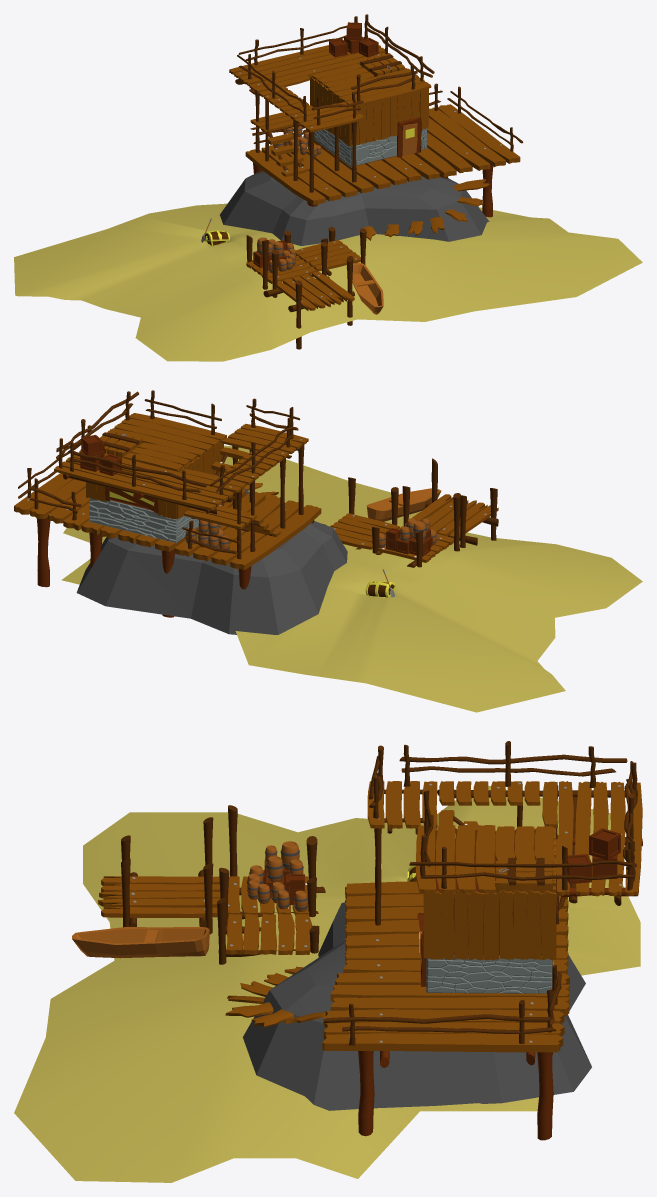
The model's file is SandIsland.fbx.
3 views of the same model, one above another, from view 1: azimuth 30°, elevation 25°; view 2: azimuth 150°, elevation 25°; view 3: azimuth 270°, elevation 25° (orthographic). The views are drawn at different scales.
Visible parts, largest first — view 1: Plane001, island, Box062, Box151, Box046, Cylinder282, Plane004, Cylinder099, Cylinder083, plank007, Box165, Box016 (+5 smaller); view 2: Plane001, island, Box151, Box062, Cylinder282, Plane004, Cylinder083, Cylinder051, Cylinder099, Box046, Box016, Cylinder293 (+5 smaller); view 3: Plane001, island, Box062, Box151, Box046, Cylinder282, Plane004, Box016, Cylinder293, Cylinder051, Cylinder176, plank007 (+15 smaller).
Boxes of the visible parts, left/top/right/bottom form: Plane001: left=14, top=203, right=642, bottom=361; island: left=220, top=161, right=489, bottom=245; Box062: left=245, top=104, right=520, bottom=204; Box151: left=229, top=37, right=431, bottom=132; Box046: left=310, top=68, right=428, bottom=146; Cylinder282: left=237, top=14, right=434, bottom=125; Plane004: left=314, top=128, right=427, bottom=166; Cylinder099: left=255, top=92, right=356, bottom=192; Cylinder083: left=250, top=103, right=336, bottom=176; plank007: left=363, top=179, right=489, bottom=240; Box165: left=329, top=22, right=378, bottom=57; Box016: left=346, top=262, right=383, bottom=314; Plane001: left=61, top=445, right=642, bottom=712; island: left=76, top=488, right=347, bottom=634; Box151: left=54, top=413, right=308, bottom=510; Box062: left=14, top=473, right=321, bottom=570; Cylinder282: left=56, top=390, right=300, bottom=499; Plane004: left=89, top=497, right=198, bottom=543; Cylinder083: left=184, top=447, right=280, bottom=536; Cylinder051: left=36, top=511, right=314, bottom=617; Cylinder099: left=232, top=444, right=304, bottom=559; Box046: left=86, top=441, right=223, bottom=519; Box016: left=366, top=488, right=441, bottom=521; Cylinder293: left=18, top=425, right=91, bottom=520; Plane001: left=14, top=785, right=640, bottom=1182; island: left=242, top=902, right=591, bottom=1110; Box062: left=322, top=881, right=569, bottom=1052; Box151: left=367, top=781, right=642, bottom=896; Box046: left=423, top=827, right=556, bottom=960; Cylinder282: left=369, top=741, right=637, bottom=890; Plane004: left=426, top=955, right=553, bottom=993; Box016: left=72, top=927, right=209, bottom=958; Cylinder293: left=323, top=965, right=561, bottom=1045; Cylinder051: left=358, top=997, right=553, bottom=1140; Cylinder176: left=247, top=841, right=307, bottom=911; plank007: left=225, top=966, right=325, bottom=1027.
Size of the model in its own units: 4773 by 1625 by 3135.
